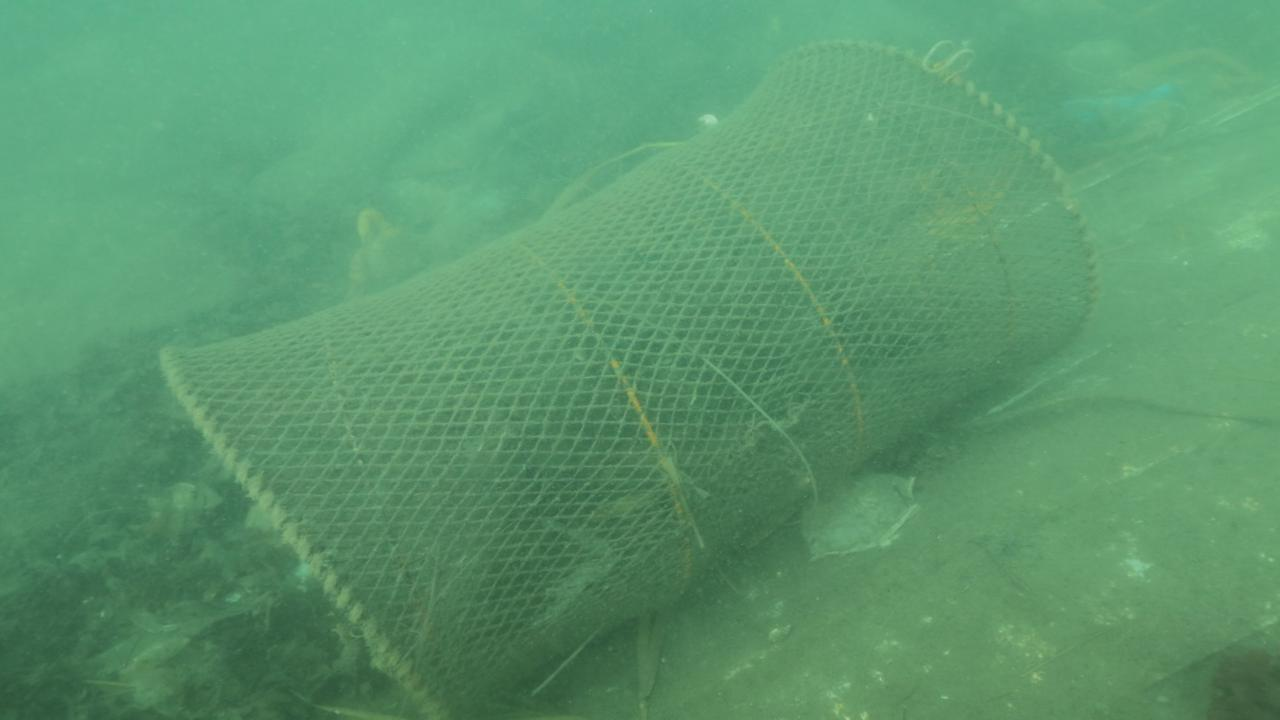spring fish trap: (150, 33, 1101, 718)
